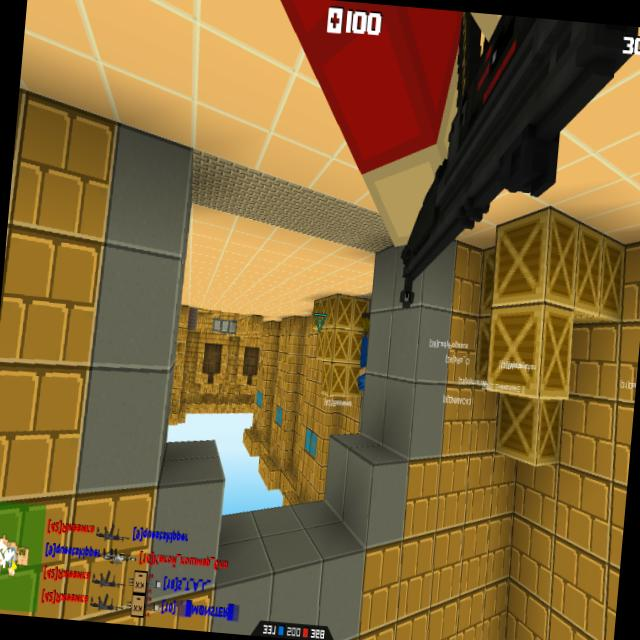enemy: (354, 310, 371, 392)
